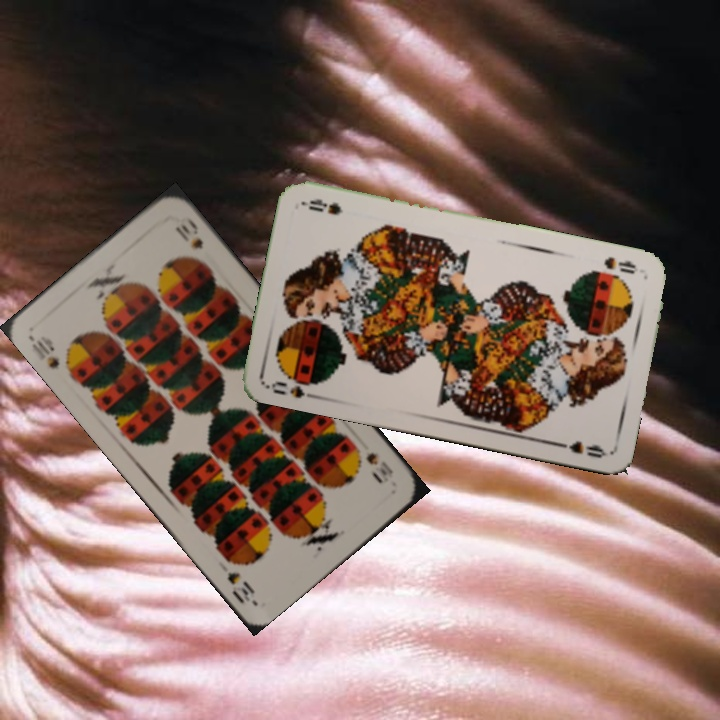S10: (351, 442, 396, 485), (25, 332, 62, 373)
SO: (264, 371, 325, 402), (600, 252, 639, 277)
